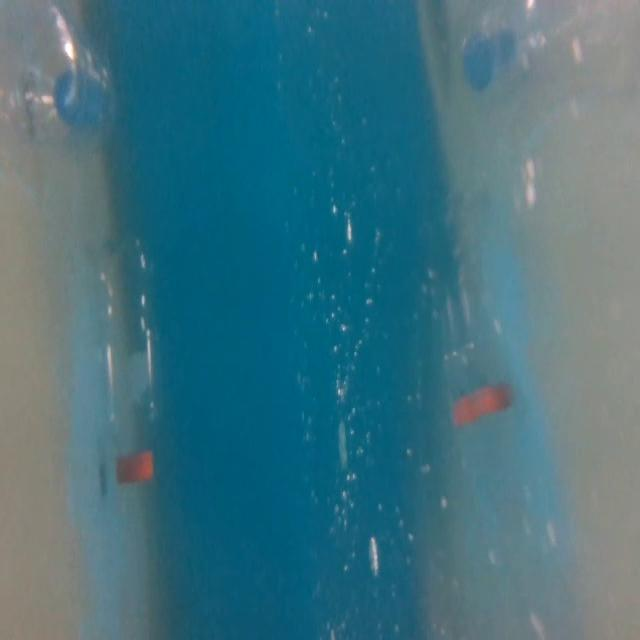plastic bottle: (84, 227, 170, 485)
